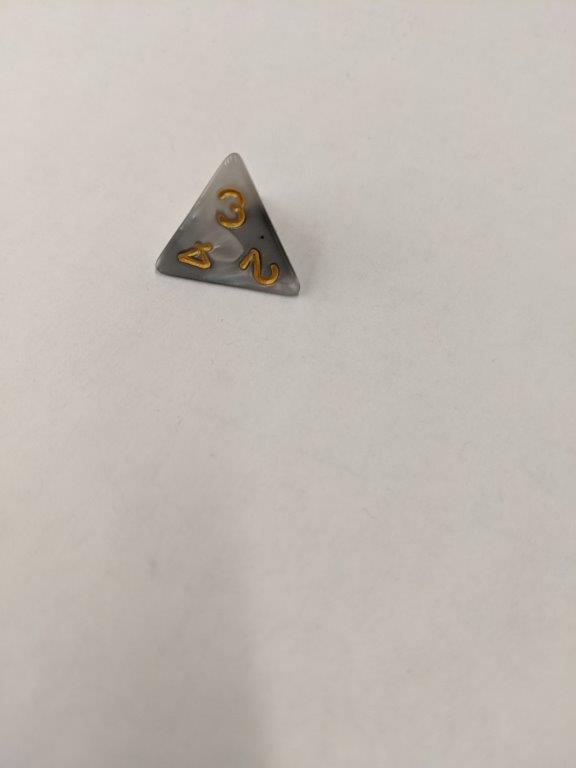d4-3: (146, 146, 305, 301)
